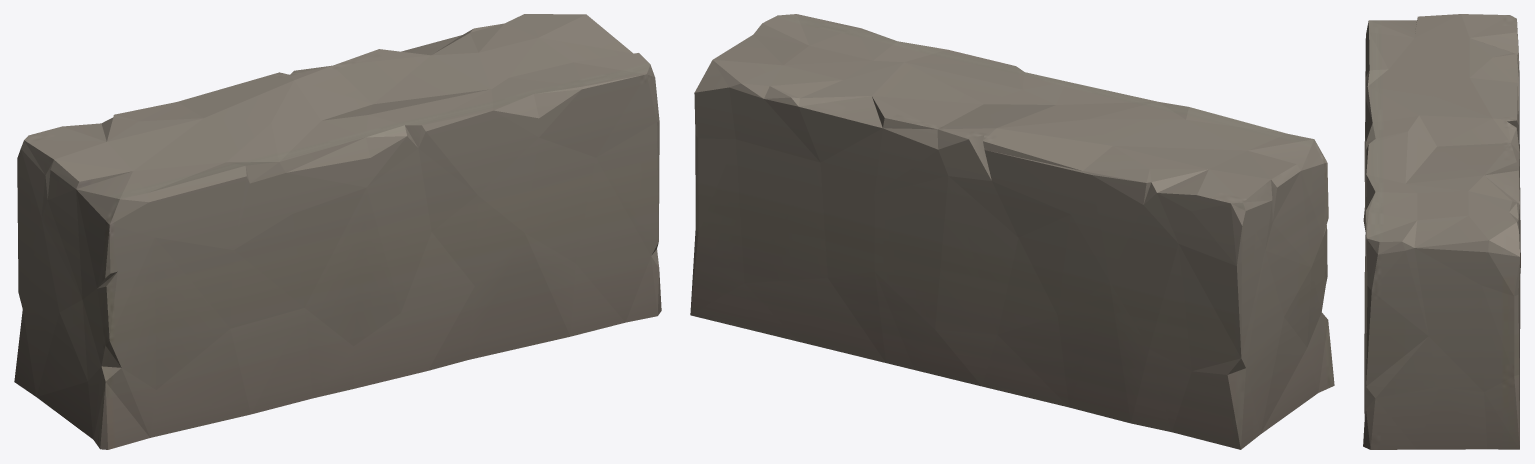
The model's file is fence_stone_block.glb.
The picture shows the model from 3 angles, left to right: view 1: azimuth 30°, elevation 25°; view 2: azimuth 150°, elevation 25°; view 3: azimuth 270°, elevation 25°; orthographic projection. The views are drawn at different scales.
Parts seen in each view (by area): view 1: fence_stone_block; view 2: fence_stone_block; view 3: fence_stone_block.
Boxes of the visible parts, box(x1,y1,x2,y2) form: fence_stone_block: box(14, 14, 661, 449); fence_stone_block: box(690, 14, 1334, 449); fence_stone_block: box(1363, 14, 1520, 449).
Bounding box in the file's own units: 1.11 × 0.47 × 0.32.
Materials: 1 (1 with a texture image).
